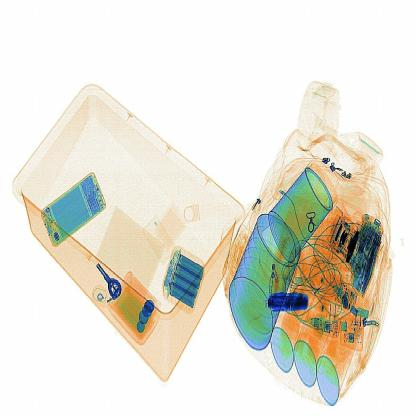scissors: (263, 284, 314, 320)
